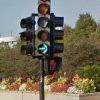Traffic light: (14, 0, 84, 84)
